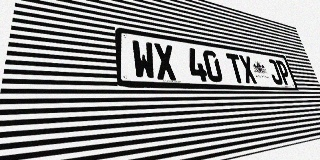0: (202, 50, 224, 82)
4: (186, 47, 208, 82)
J: (266, 59, 284, 85)
P: (275, 60, 292, 85)
T: (226, 53, 246, 83)
W: (131, 40, 157, 80)
X: (153, 43, 177, 81), (238, 55, 258, 84)
